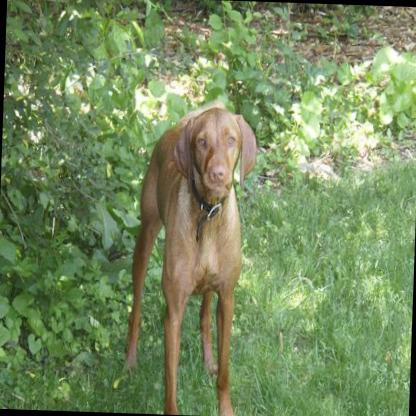vizsla: (118, 100, 258, 416)
